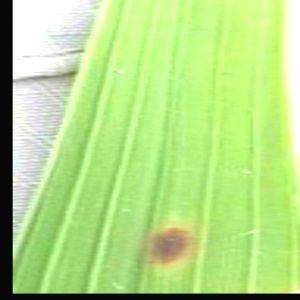Bacterial_Leaf_Blight: (142, 216, 204, 284)
